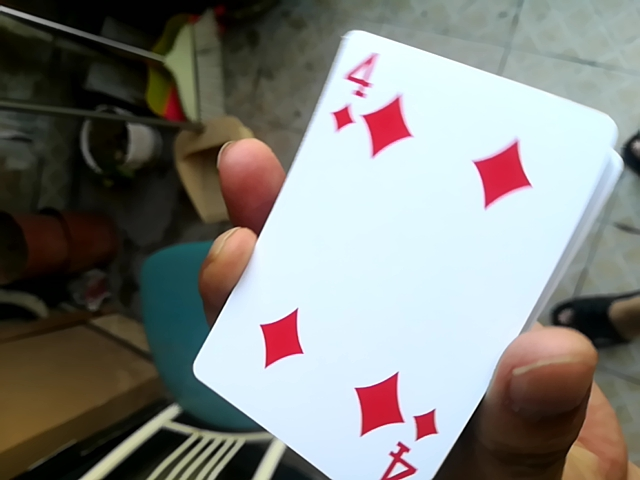fk 4: (191, 29, 623, 477)
